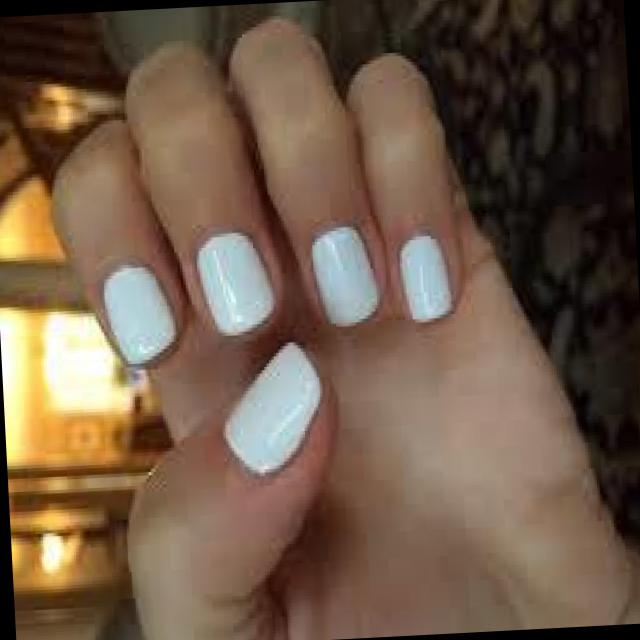Nail: (224, 339, 322, 474), (196, 230, 274, 335), (103, 265, 176, 364), (313, 224, 381, 326), (400, 232, 455, 321)
